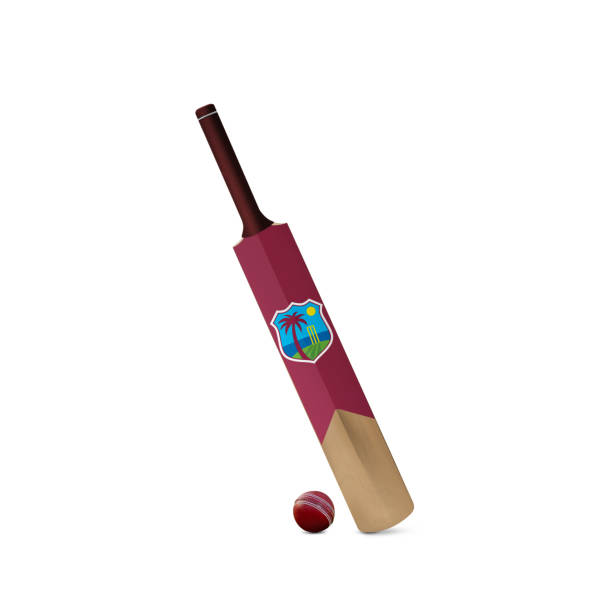bottom left: (347, 516, 380, 549)
bottom right: (397, 489, 432, 524)
top left: (224, 239, 248, 263)
top right: (276, 212, 305, 241)
